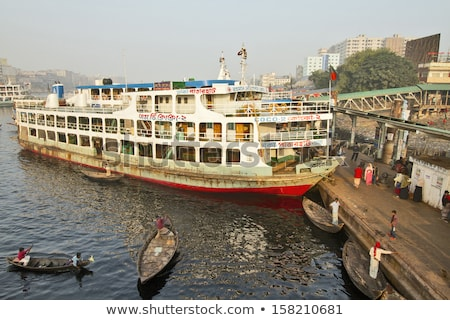boat: (341, 235, 388, 299), (136, 213, 177, 284), (300, 195, 345, 235), (7, 256, 93, 272), (80, 171, 124, 182)
launch: (8, 44, 346, 197), (1, 81, 45, 110)
